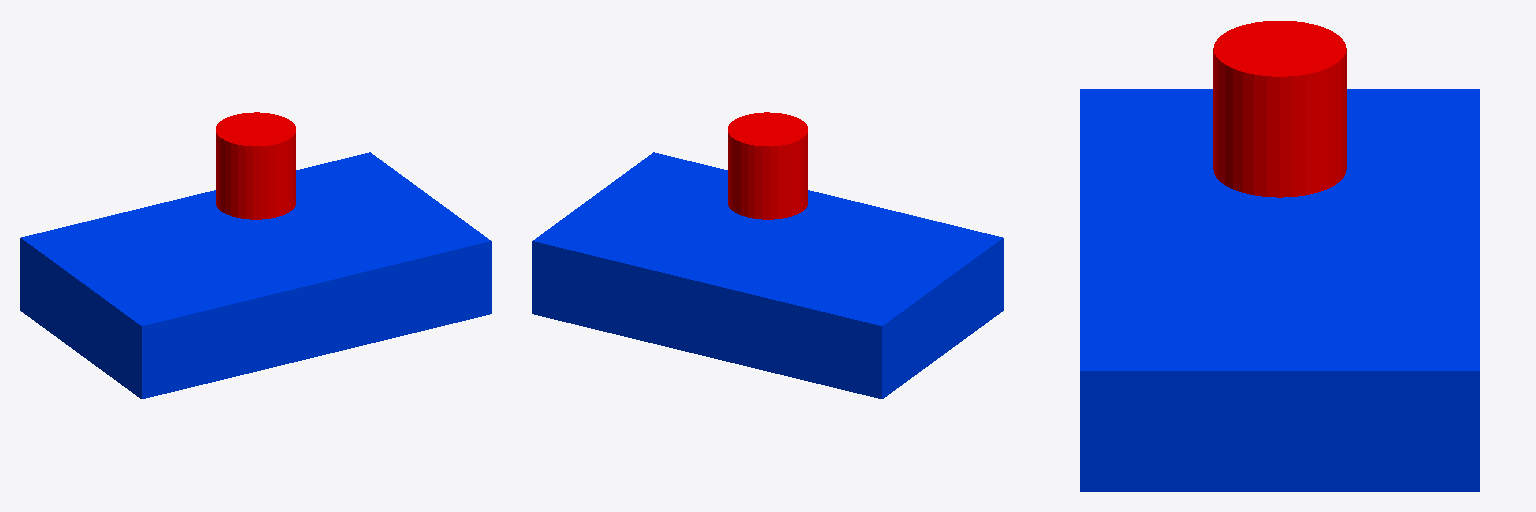
robot.urdf — simple_robot:
<?xml version="1.0"?>
<robot name="simple_robot">

  <material name="blue">
    <color rgba="0.0 0.3 1.0 1.0"/>
  </material>

  <material name="red">
    <color rgba="1.0 0.0 0.0 1.0"/>
  </material>

  <!-- Base Link -->
  <link name="base_link">
    <visual>
      <geometry>
        <box size="0.5 0.3 0.1"/>
      </geometry>
      <material name="blue"/>
    </visual>
  </link>

  <!-- Camera Link -->
  <link name="camera_link">
    <visual>
      <geometry>
        <cylinder radius="0.05" length="0.1"/>
      </geometry>
      <material name="red"/>
    </visual>
  </link>

  <!-- Fixed Joint: Base to Camera -->
  <joint name="base_to_camera" type="fixed">
    <parent link="base_link"/>
    <child link="camera_link"/>
    <origin xyz="0 0 0.15" rpy="0 0 0"/>
  </joint>

</robot>

--- Render facts (derived) ---
3 views of the same robot in one strip: view 1: azimuth 30°, elevation 25°; view 2: azimuth 150°, elevation 25°; view 3: azimuth 270°, elevation 25° (orthographic).
Robot: simple_robot — 2 links, 1 joints (1 fixed); root link base_link; default pose: all joints at 0.
Links seen in each view (by area): view 1: base_link, camera_link; view 2: base_link, camera_link; view 3: base_link, camera_link.
Link boxes in pixels (x1,y1,x2,y2): base_link: [20, 152, 491, 398]; camera_link: [216, 112, 295, 219]; base_link: [532, 152, 1003, 398]; camera_link: [728, 112, 807, 219]; base_link: [1080, 89, 1479, 491]; camera_link: [1213, 21, 1346, 197].
Bounding box of the posed robot: 0.5 × 0.3 × 0.25 m (x, y, z).
Geometry: primitives only (box / cylinder / sphere), no mesh files.
